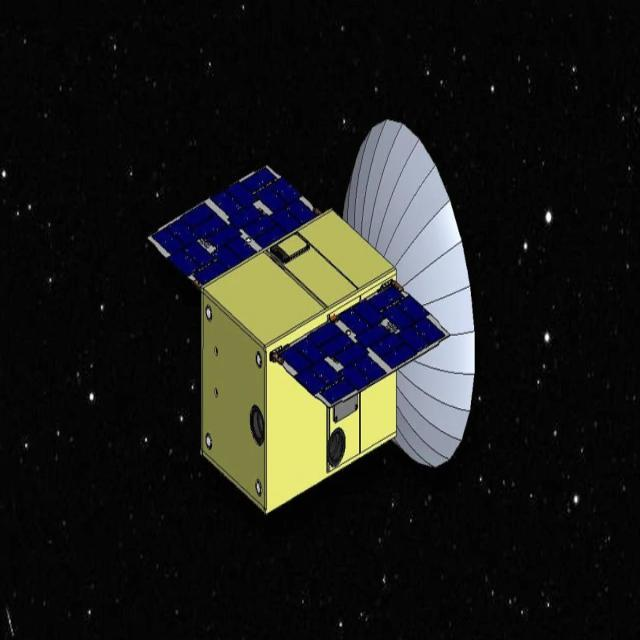sat: (136, 108, 477, 528)
